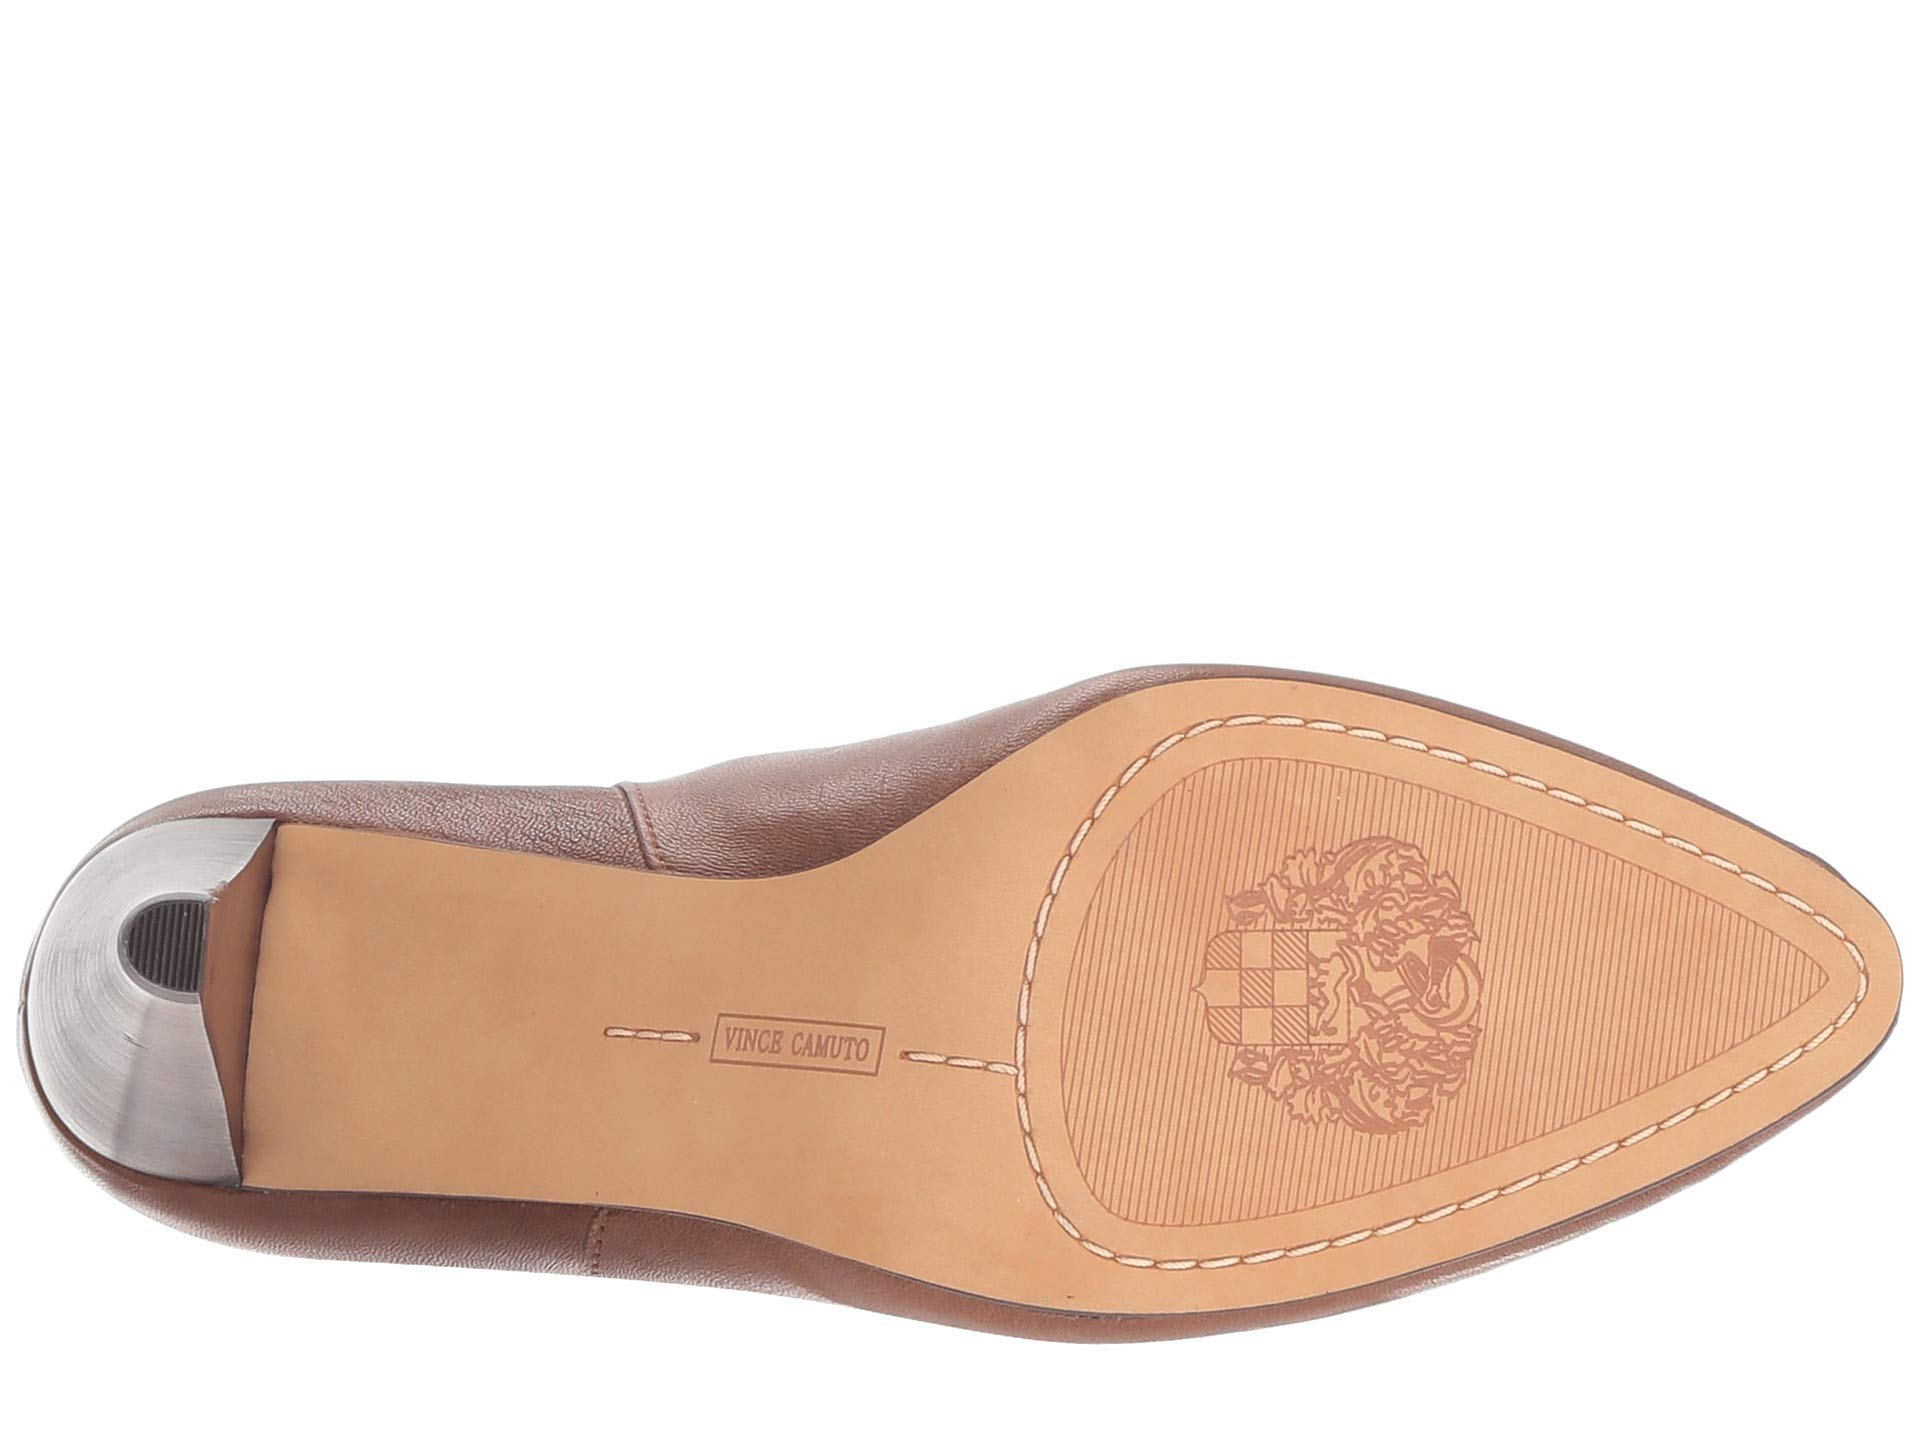line: (1507, 888, 1689, 1077), (1099, 898, 1191, 1177)
quad: (1500, 818, 1612, 1144), (1628, 856, 1748, 1077), (1202, 926, 1318, 1056), (1754, 908, 1841, 1019)
triangle: (1202, 926, 1318, 1056), (1754, 908, 1841, 1019)
